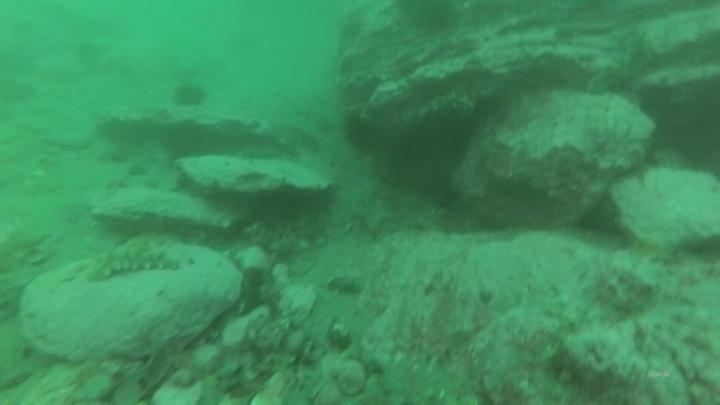echinus: (393, 1, 462, 37), (161, 119, 210, 162), (341, 111, 383, 155), (170, 80, 209, 111)
holothurian: (82, 242, 184, 284), (413, 91, 478, 122)
